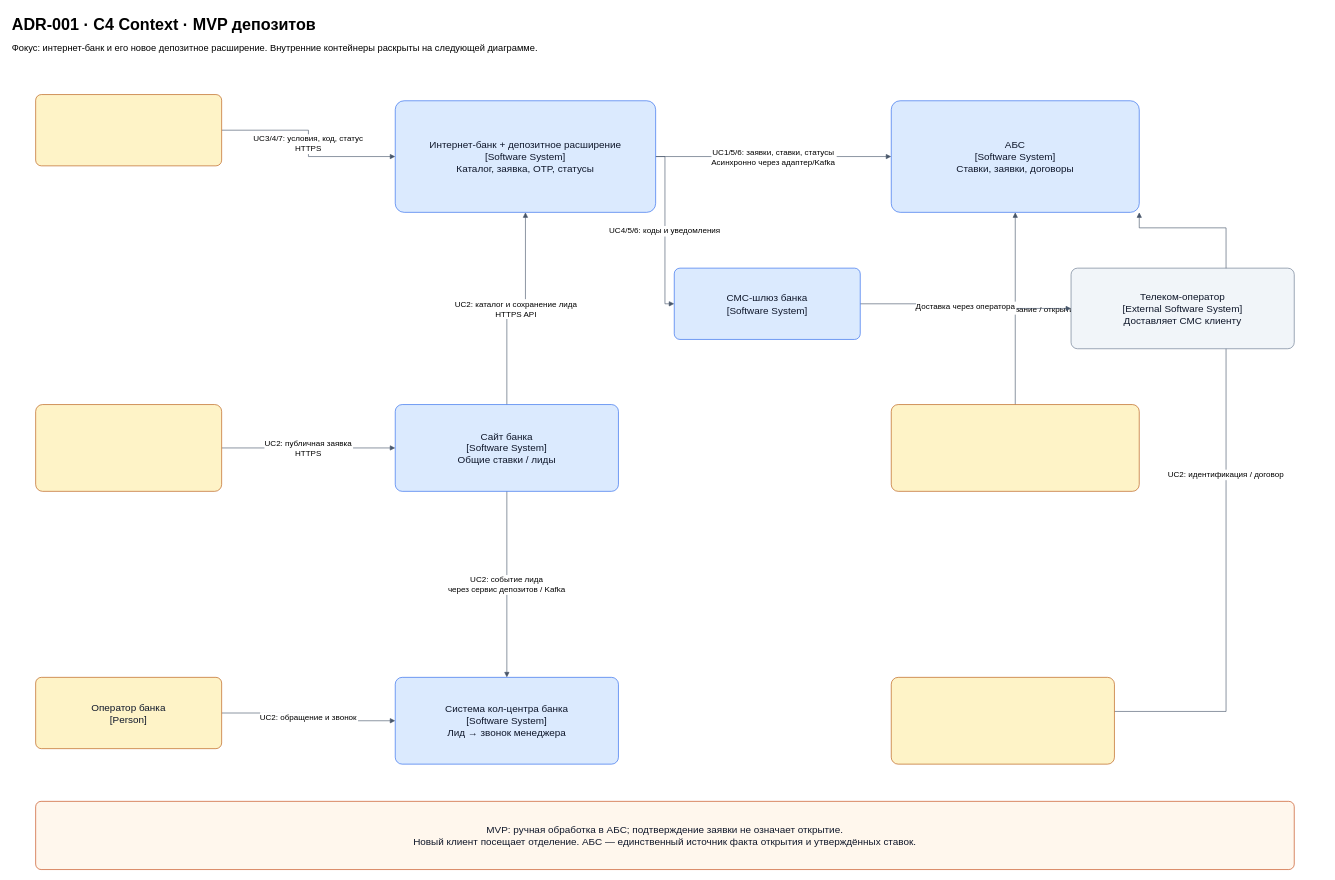
The diagram is 1335 pixels wide and 880 high, and some of its shapes have lost their labels. The box of each missing label's shape, as (x1, y1, x2, y2) in pixels:
Действующий клиент [Person]: (35, 94, 222, 166)
Кредитный / депозитный бэк-офис [Person] Разные права на данные: (891, 404, 1139, 491)
Новый клиент [Person] Идентификация в отделении: (35, 404, 222, 491)
Фронт-офис [Person] Проверка документов: (891, 677, 1114, 764)
